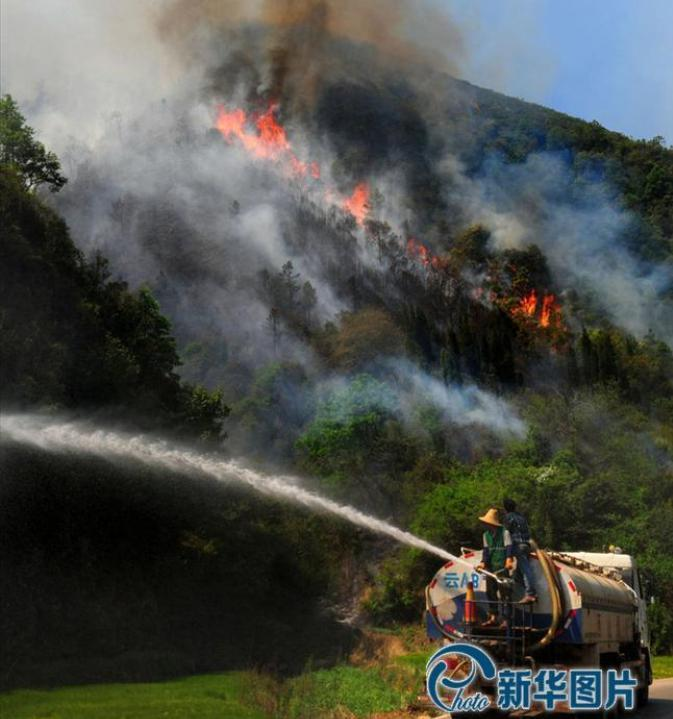fire: (215, 101, 377, 226), (405, 241, 567, 337)
